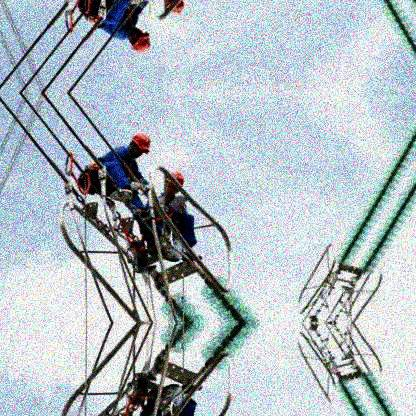helmet: (129, 25, 151, 53), (163, 171, 184, 198), (130, 132, 150, 159)
